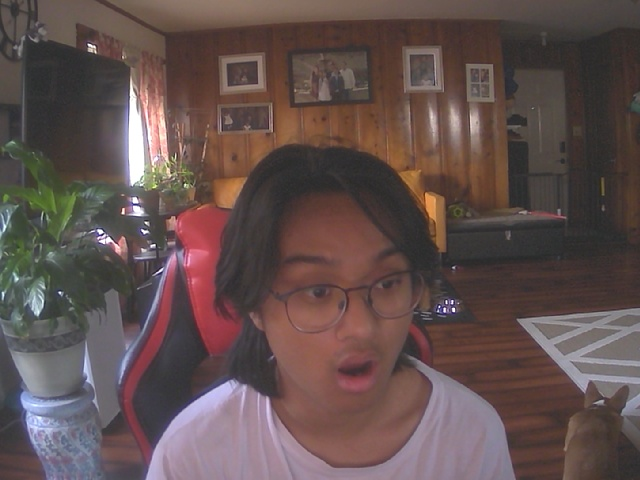fear: (220, 144, 431, 410)
